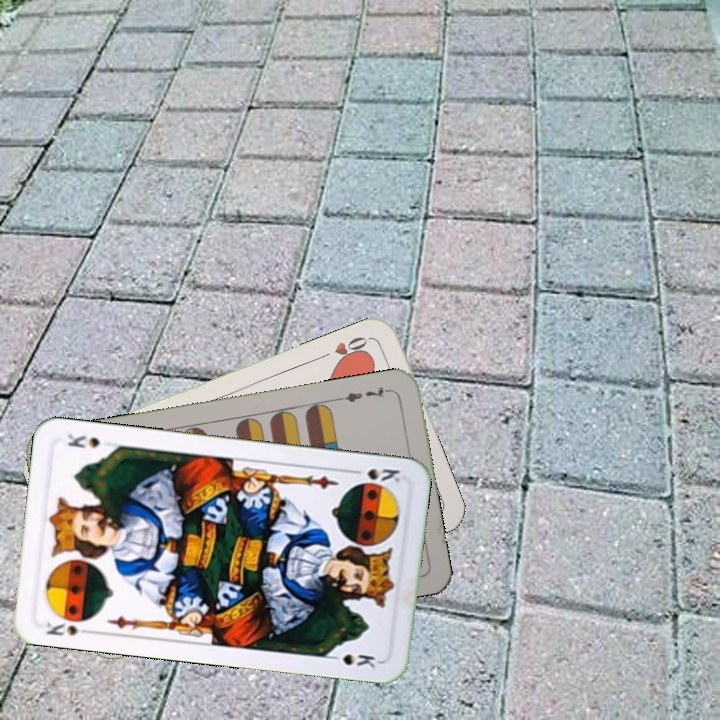E7: (335, 382, 394, 405)
HO: (315, 332, 372, 366)
SK: (346, 464, 403, 485), (42, 617, 96, 639)
